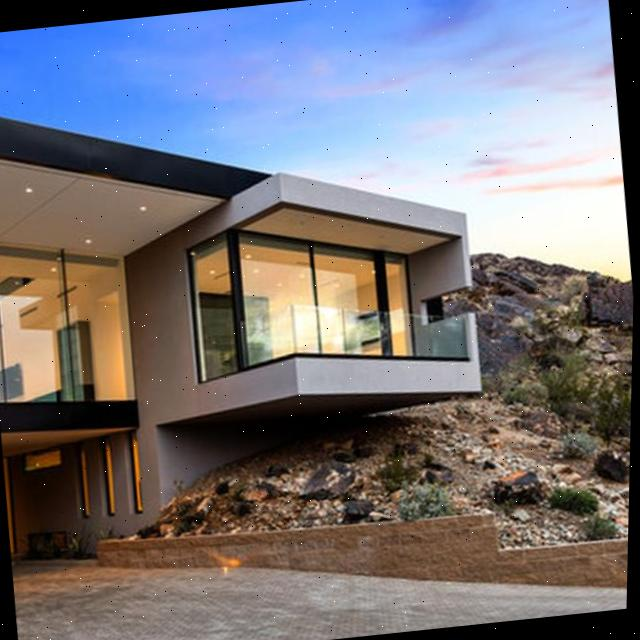building: (0, 58, 506, 553)
